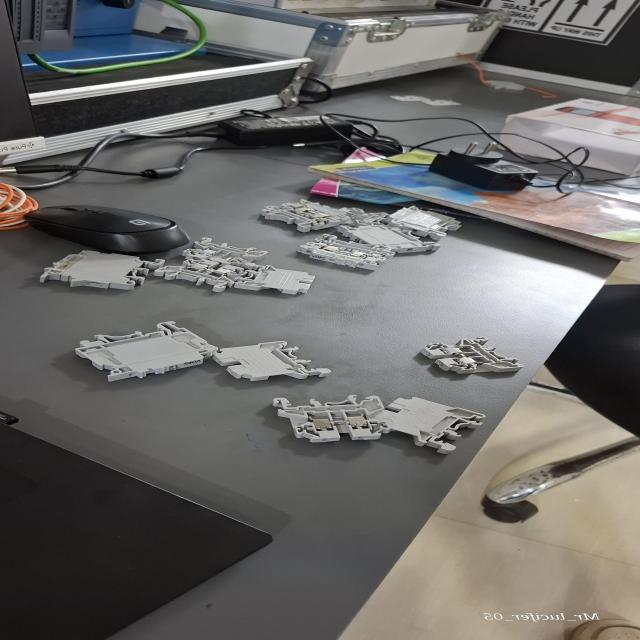Inverted: (372, 394, 488, 456), (212, 338, 330, 386), (232, 260, 328, 298)
Pass: (264, 385, 390, 445), (412, 328, 538, 378), (130, 256, 254, 298)
Reject: (171, 234, 283, 264)
